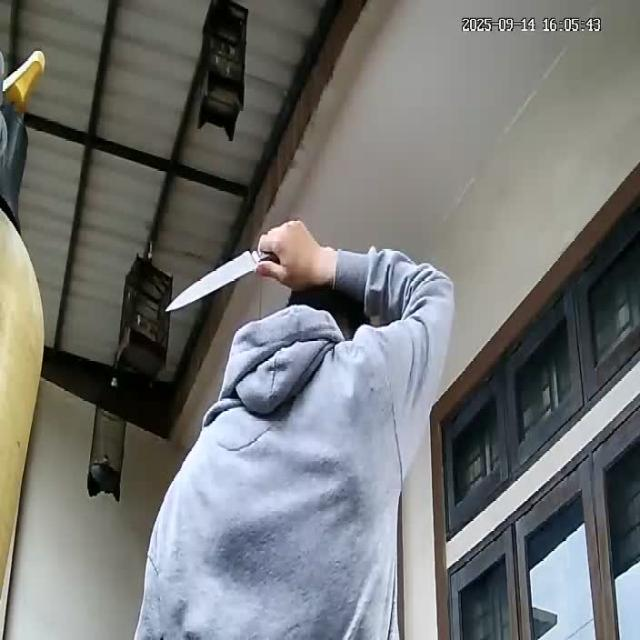senjata_tajam: (162, 246, 259, 315)
